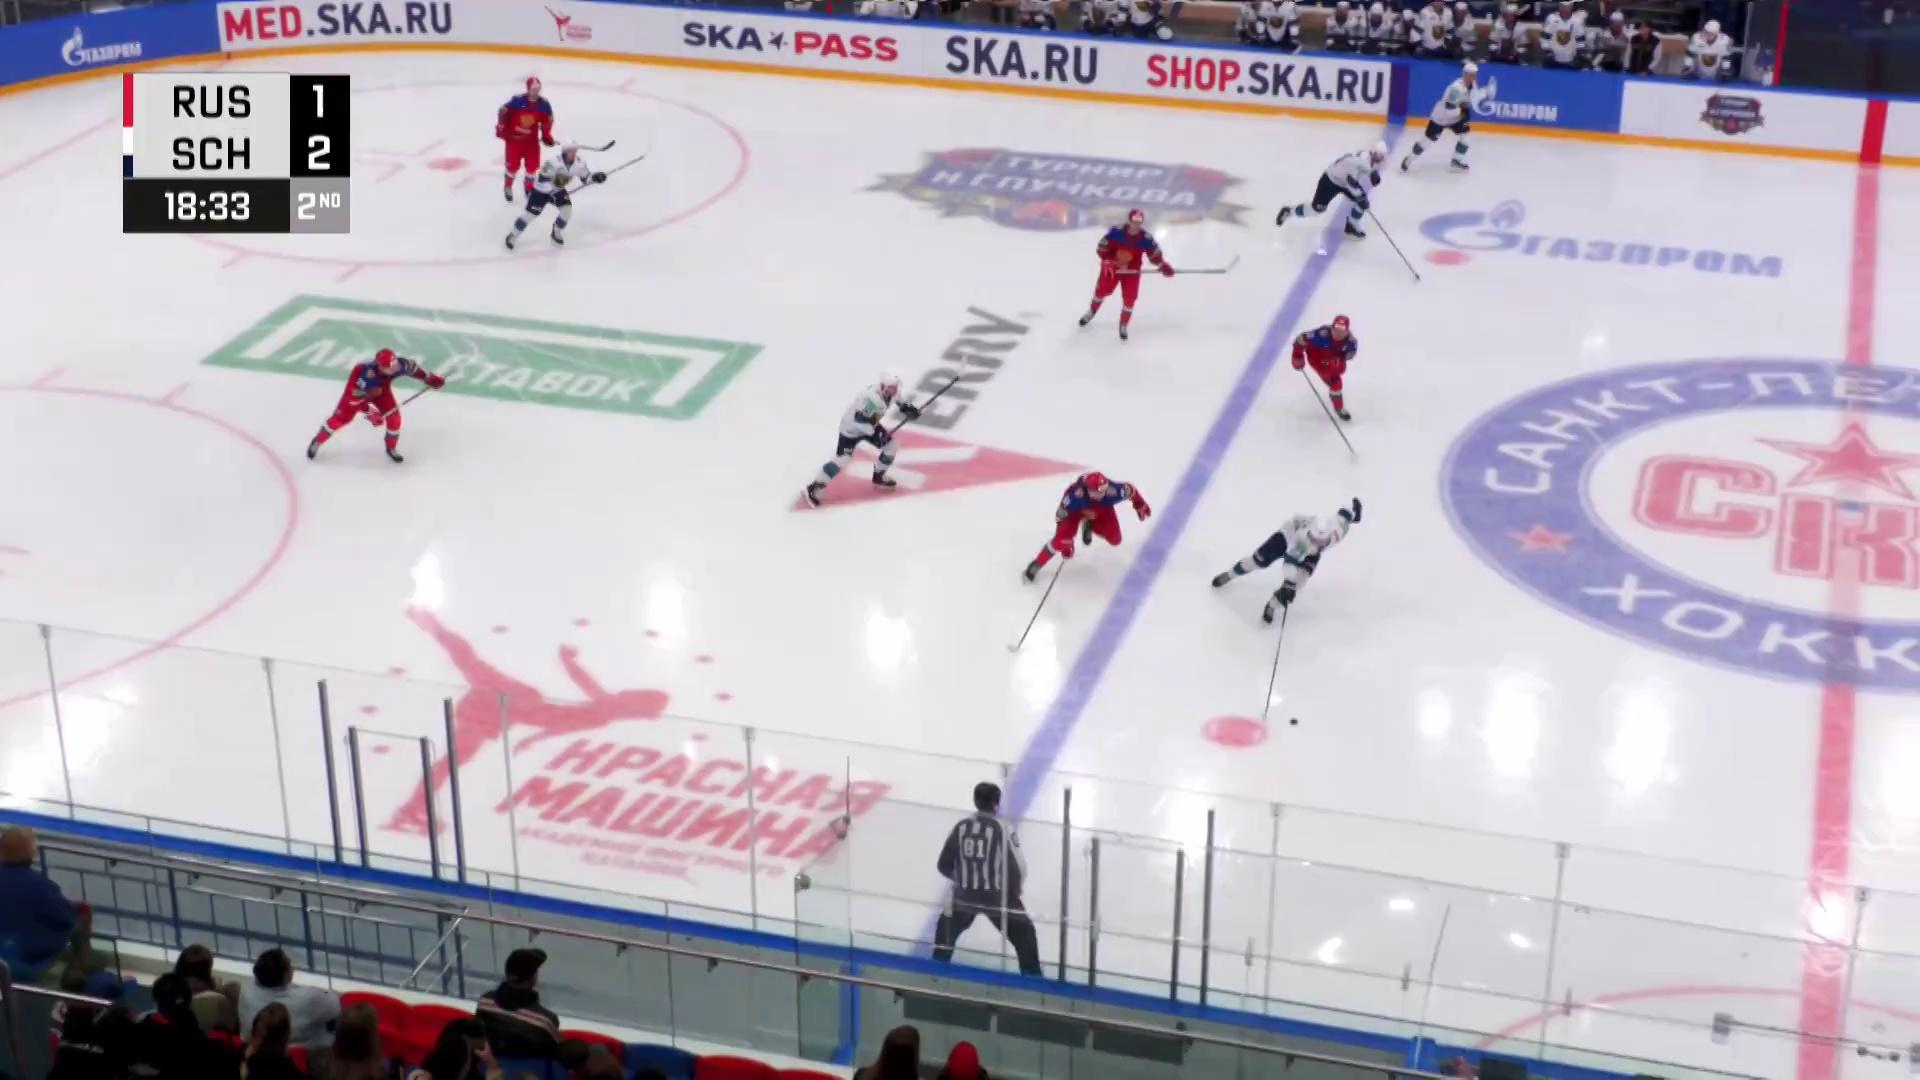ball: (1288, 717, 1298, 727)
